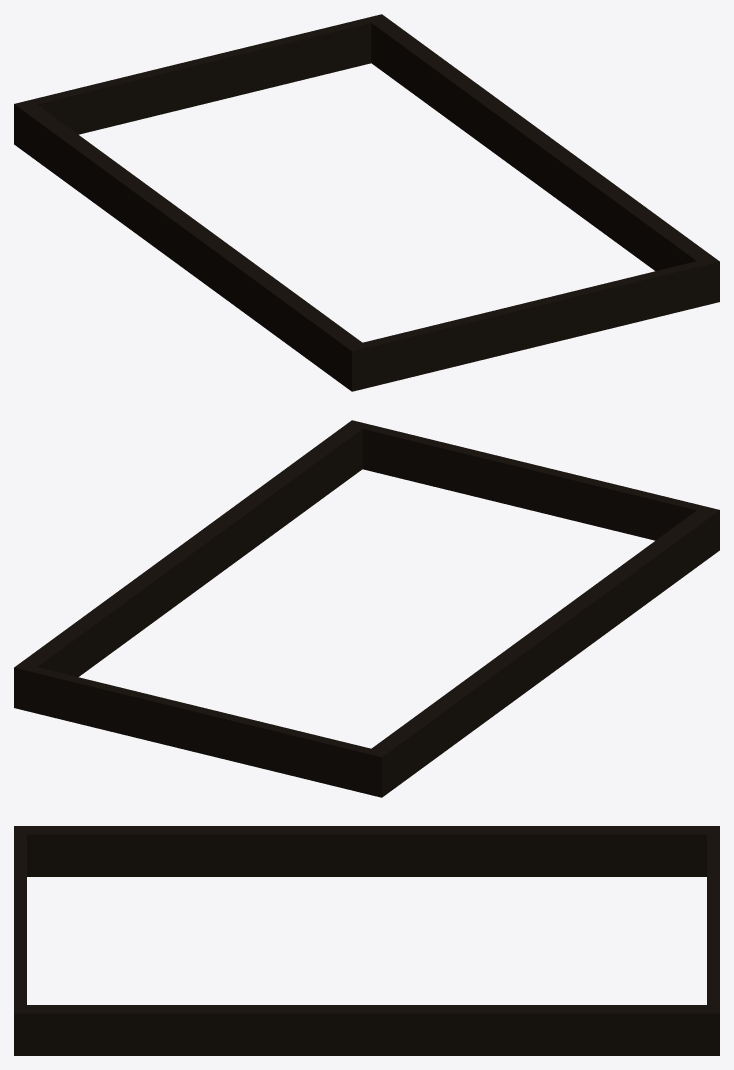
The model's file is pz_window_wooden_glass_removed.obj.
The picture shows the model from 3 angles, top to bottom: view 1: azimuth 30°, elevation 25°; view 2: azimuth 150°, elevation 25°; view 3: azimuth 270°, elevation 25°; orthographic projection. The views are drawn at different scales.
Parts seen in each view (by area): view 1: pz_window_wooden_glass_removed; view 2: pz_window_wooden_glass_removed; view 3: pz_window_wooden_glass_removed.
Boxes of the visible parts, x1,y1,x2,y2 form: pz_window_wooden_glass_removed: (14,14,719,391); pz_window_wooden_glass_removed: (14,420,719,797); pz_window_wooden_glass_removed: (14,826,719,1055).
Bounding box in the file's own units: 0.6094 × 0.064 × 0.9696.
Materials: 1 (1 with a texture image).
